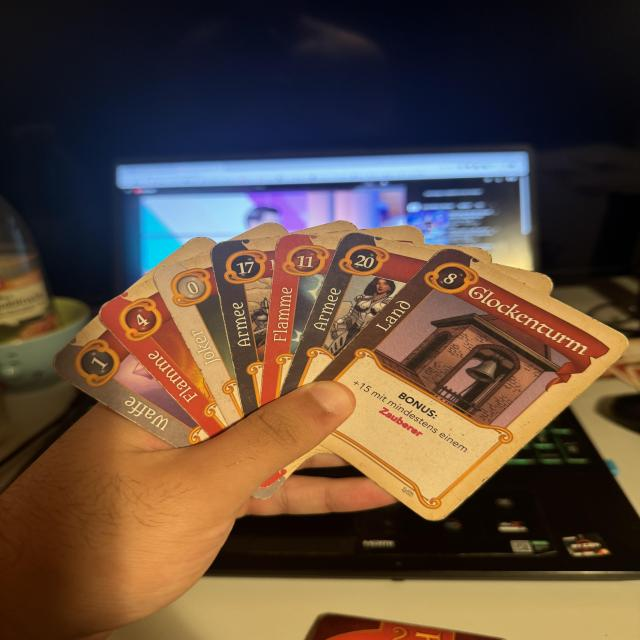Clock Tower: (318, 246, 636, 526)
Fire Elemental: (99, 279, 227, 437)
Knights: (278, 232, 439, 396)
Light Cavalry: (211, 234, 282, 417)
Lightning: (260, 234, 340, 409)
Magic Wand: (52, 316, 210, 448)
Shapeshifter: (153, 253, 244, 429)
